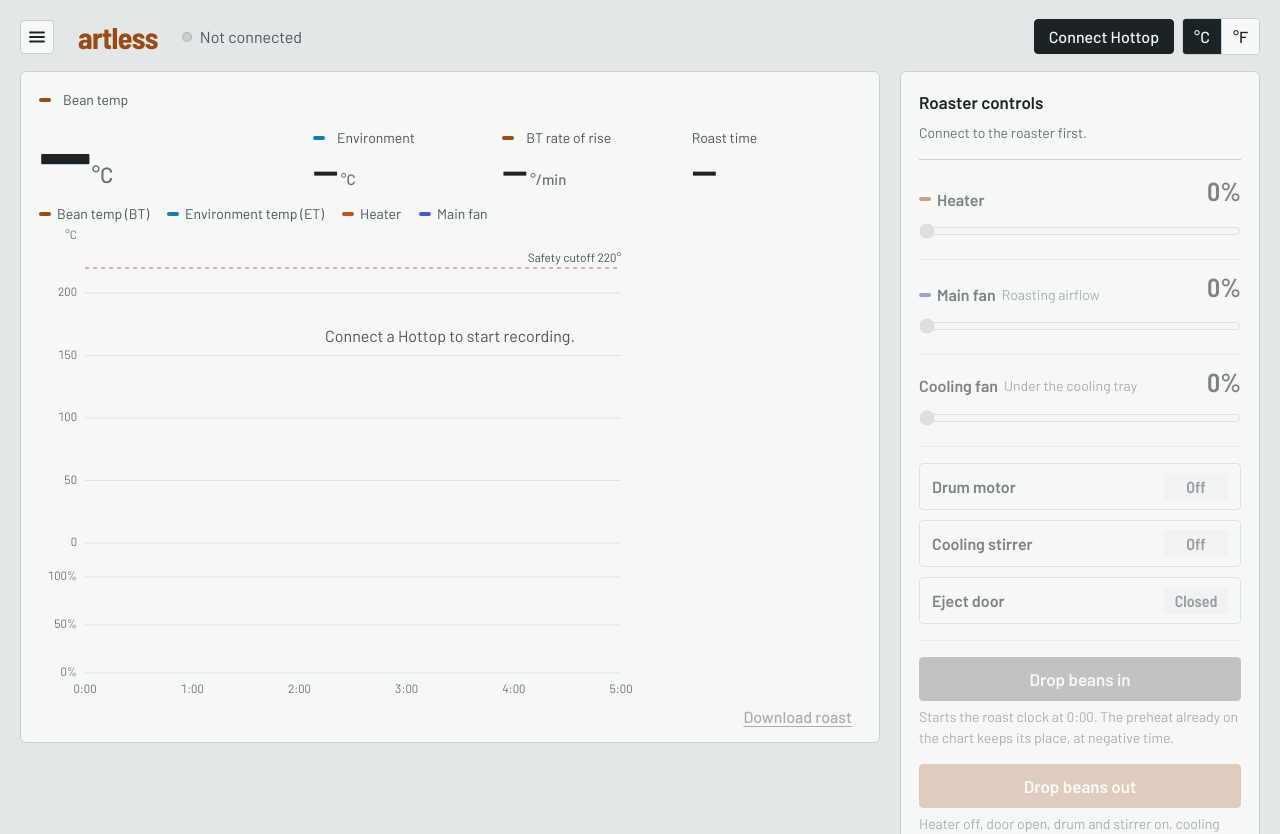
Test: connecting to a Hottop › shows any other failure to get a port
This screenshot has width=1280, height=834.
Click the button "Connect Hottop": point(1104, 37) [1034, 19, 1174, 54]
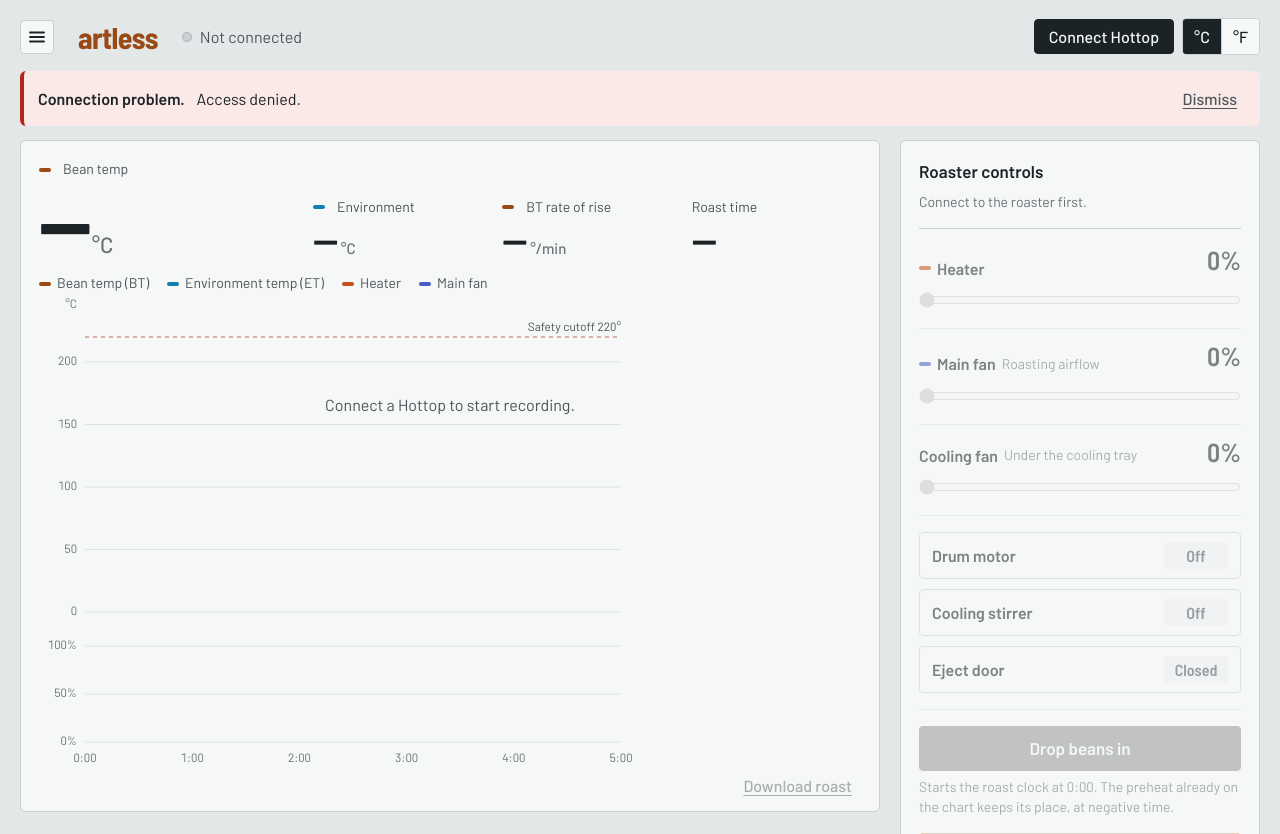
Check: the message shows "Access denied.", box [197, 89, 301, 108]
